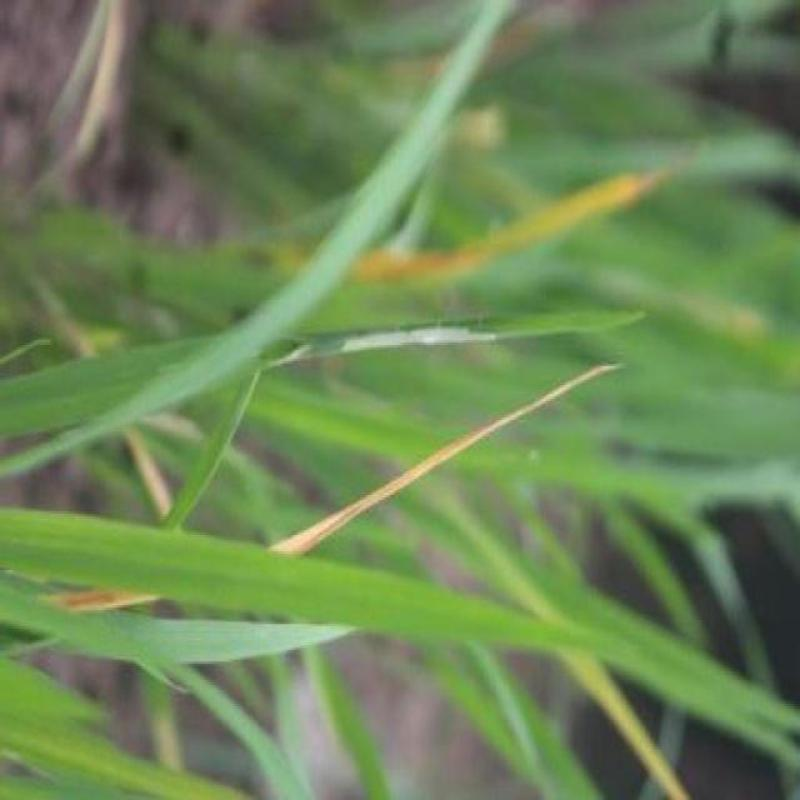Rice Tungro: (324, 359, 601, 556), (64, 584, 150, 632)
